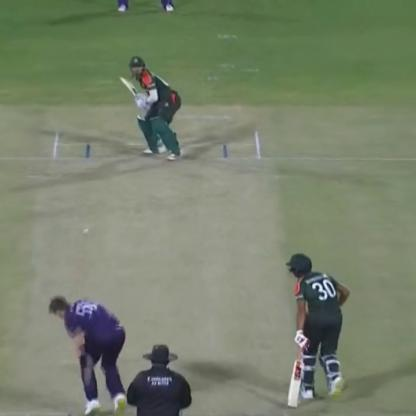ball: (78, 223, 90, 237)
bat: (287, 332, 306, 409), (112, 70, 147, 106)
pitch: (30, 144, 291, 416)
